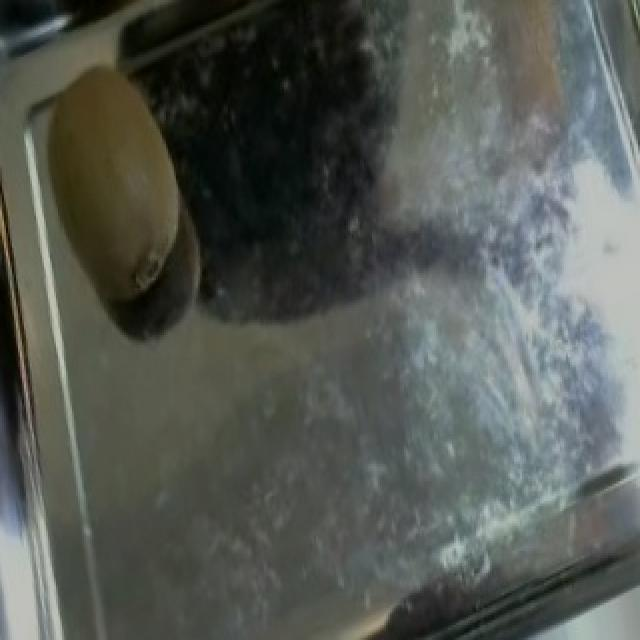Fruit: (6, 25, 216, 337)
